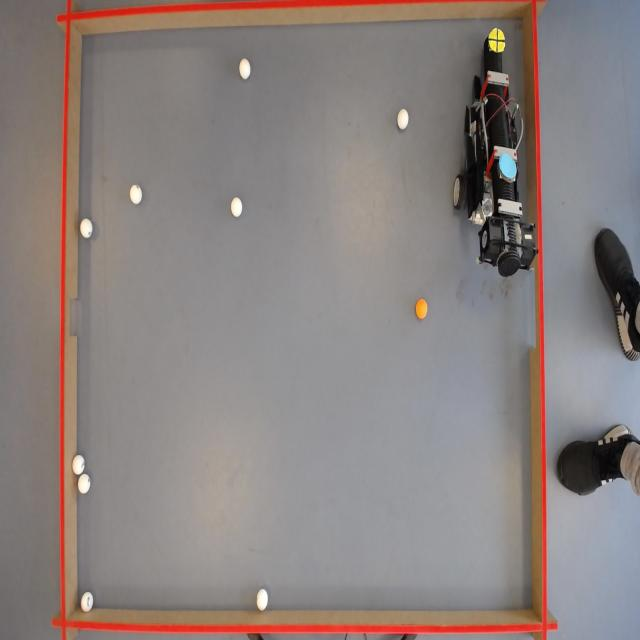orange: (416, 301, 430, 320)
robot: (454, 29, 538, 288)
robot-front: (488, 27, 506, 54)
robot-rear: (498, 152, 518, 180)
white: (255, 589, 269, 612), (239, 58, 253, 80), (130, 183, 144, 204), (72, 453, 86, 474), (80, 592, 94, 613), (79, 218, 93, 238), (396, 109, 409, 130), (77, 475, 90, 496), (232, 197, 244, 218)
